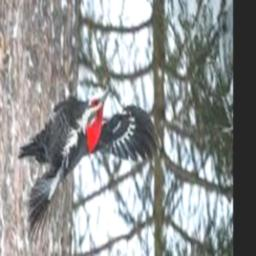Woodpecker: (19, 88, 161, 246)
